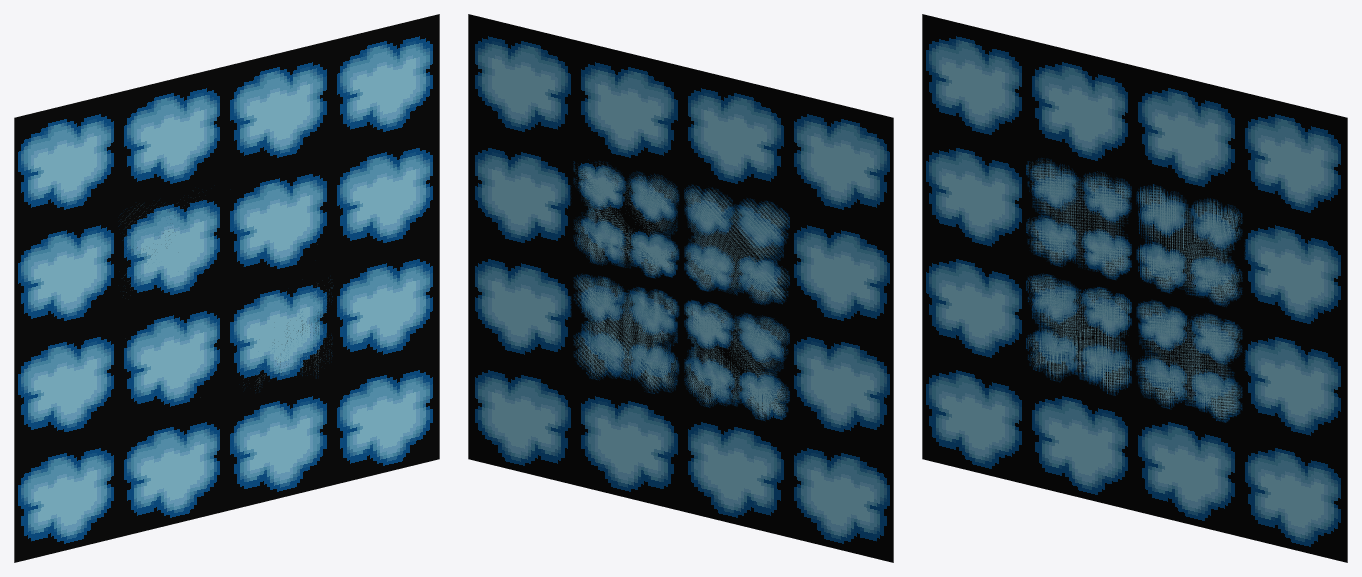
3 renders of one model, left to right at view 1: azimuth 30°, elevation 25°; view 2: azimuth 150°, elevation 25°; view 3: azimuth 330°, elevation 25°, orthographic.
Parts seen in each view (by area): view 1: ef_052; view 2: ef_052; view 3: ef_052.
Part boxes in pixels (bbox=[...]): ef_052: bbox=[14, 14, 439, 562]; ef_052: bbox=[468, 14, 893, 562]; ef_052: bbox=[922, 14, 1347, 562].
Bounding box in the file's own units: 0.6401 × 0.6401 × 0.
1 material, 1 textured.
